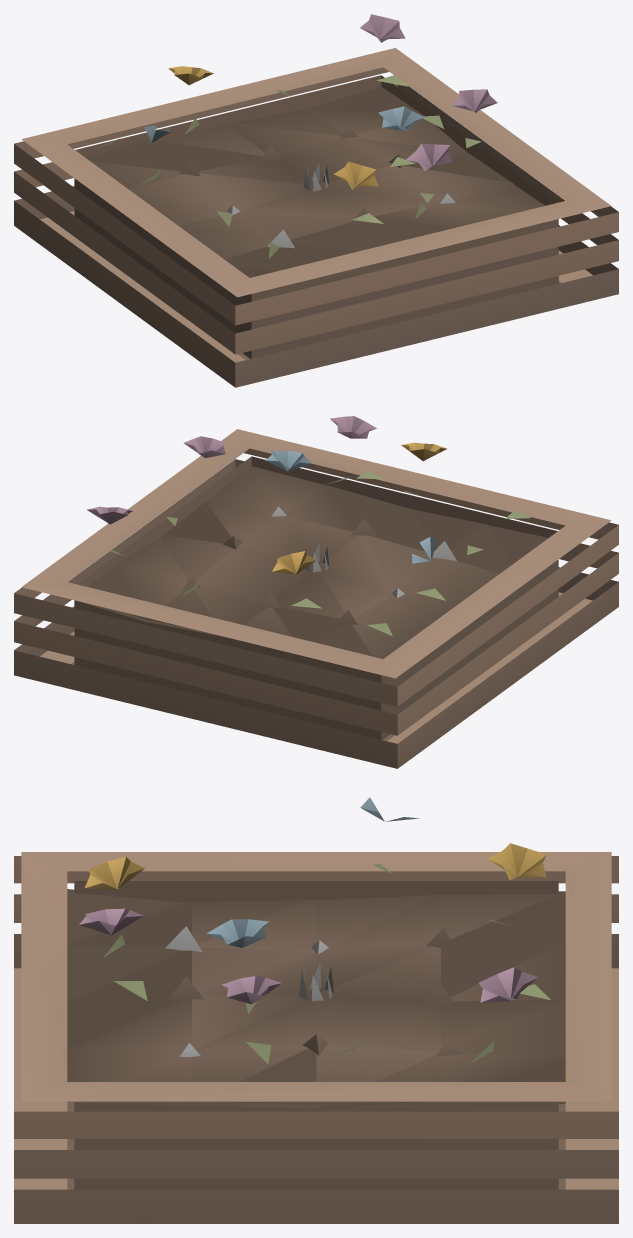
The model's file is bed.lod.glb.
3 views of the same model, one above another, from view 1: azimuth 30°, elevation 25°; view 2: azimuth 150°, elevation 25°; view 3: azimuth 270°, elevation 25° (orthographic). The views are drawn at different scales.
Visible parts, largest first — view 1: bed; view 2: bed; view 3: bed.
Part boxes in pixels (box(x1,y1,x2,y2)): bed: box(14, 14, 618, 387); bed: box(14, 416, 618, 768); bed: box(14, 797, 618, 1223).
Bounding box in the file's own units: 1 × 0.3855 × 1.
